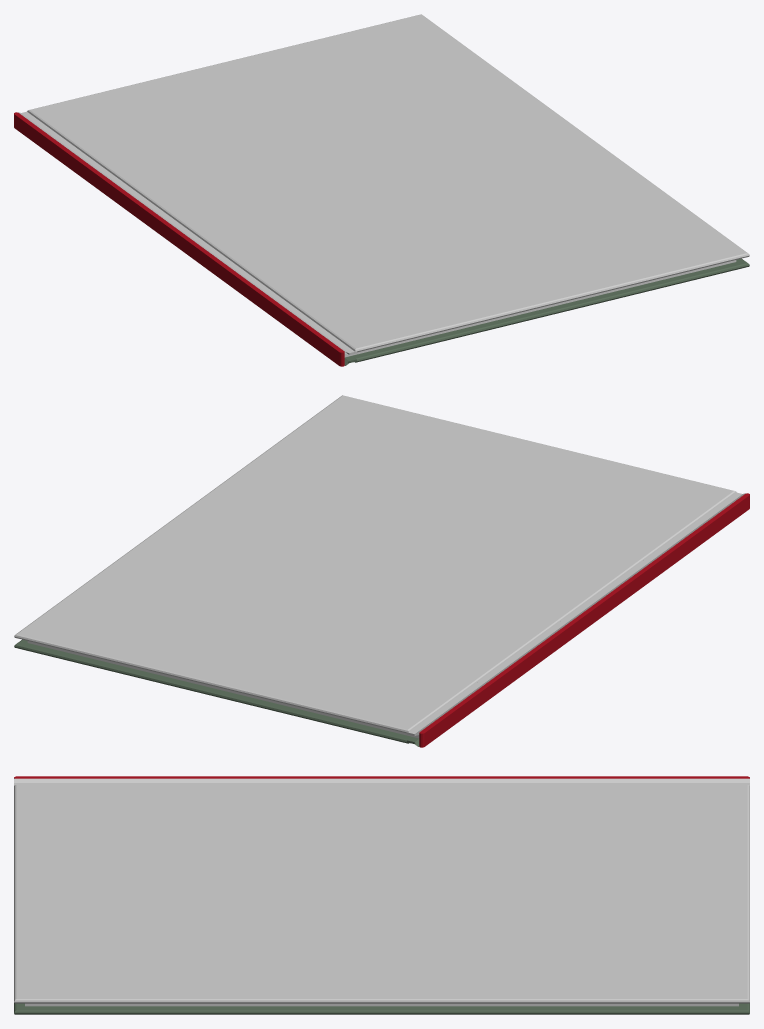
3 renders of one model, top to bottom at view 1: azimuth 30°, elevation 25°; view 2: azimuth 150°, elevation 25°; view 3: azimuth 270°, elevation 25°, orthographic. The views are drawn at different scales.
Parts seen in each view (by area): view 1: face_avant, tranche, face_arriere, page; view 2: face_avant, tranche, face_arriere, page; view 3: face_avant, face_arriere, page, tranche.
Part boxes in pixels (box(x1,y1,x2,y2)): face_avant: box(18, 14, 749, 355); tranche: box(14, 112, 344, 366); face_arriere: box(344, 258, 749, 365); page: box(344, 260, 736, 357); face_avant: box(14, 395, 745, 736); tranche: box(419, 493, 749, 747); face_arriere: box(14, 639, 419, 746); page: box(27, 641, 419, 738); face_avant: box(14, 778, 749, 1003); face_arriere: box(14, 1003, 749, 1014); page: box(25, 1003, 738, 1006); tranche: box(14, 776, 749, 778).
Bounding box in the file's own units: 21.44 × 0.7034 × 29.8.
